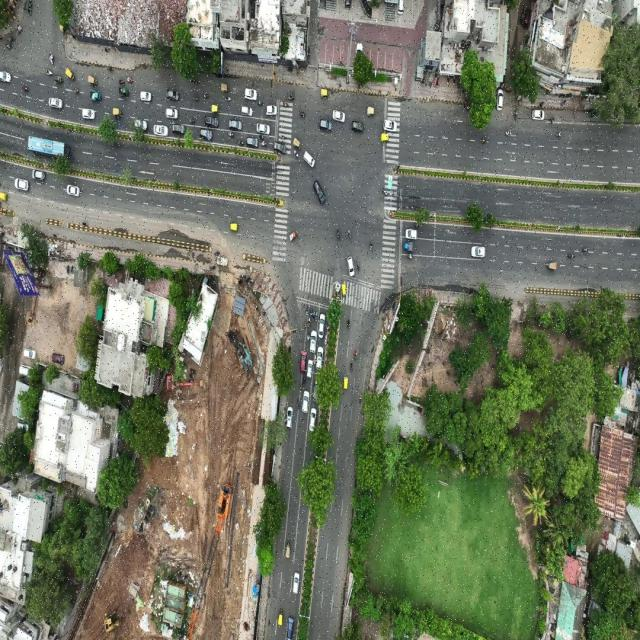3W: (85, 70, 101, 92), (51, 69, 67, 89), (63, 64, 77, 84), (108, 105, 125, 121), (208, 100, 224, 116), (543, 258, 560, 273), (365, 103, 380, 119), (318, 84, 331, 101), (23, 0, 36, 17), (227, 220, 241, 235), (379, 131, 392, 146), (291, 137, 304, 152), (219, 81, 232, 96), (284, 539, 293, 560), (342, 374, 350, 397), (276, 607, 285, 627), (340, 279, 347, 299)
Bus: (26, 133, 72, 161)
Cars: (312, 178, 327, 209), (202, 111, 224, 130), (138, 85, 156, 108), (270, 138, 289, 159), (349, 116, 366, 138), (331, 104, 347, 127), (170, 117, 186, 140), (227, 115, 244, 136), (152, 121, 170, 140), (164, 84, 181, 104), (132, 114, 149, 134), (0, 65, 13, 90), (47, 94, 65, 112), (18, 362, 34, 382), (165, 102, 181, 122), (312, 372, 321, 406), (318, 117, 335, 135), (470, 243, 486, 262), (199, 126, 215, 145), (239, 102, 255, 121), (256, 119, 272, 138), (245, 133, 261, 152), (305, 354, 315, 384), (264, 98, 279, 118), (303, 148, 316, 171), (30, 167, 47, 184), (81, 106, 98, 123), (242, 86, 259, 103), (317, 313, 327, 341), (316, 344, 326, 372), (292, 568, 302, 596), (285, 612, 295, 640), (382, 117, 398, 134), (66, 182, 82, 199), (301, 390, 311, 417), (346, 253, 356, 279), (14, 177, 30, 193), (309, 328, 318, 356), (299, 347, 308, 375), (51, 351, 66, 367), (531, 106, 545, 123), (496, 88, 505, 114), (309, 406, 317, 435), (23, 346, 38, 361), (523, 7, 532, 32), (15, 421, 30, 435), (405, 226, 419, 241), (286, 405, 294, 431), (355, 39, 365, 59), (396, 0, 406, 16), (292, 147, 301, 161), (344, 0, 353, 10)
LCV: (116, 82, 131, 102), (89, 87, 103, 104), (287, 229, 301, 244), (400, 240, 415, 254), (588, 109, 600, 122)
M2W: (333, 225, 345, 245), (4, 39, 17, 56), (14, 19, 26, 37), (477, 132, 490, 148), (278, 126, 290, 143), (255, 127, 266, 145), (115, 74, 128, 89), (285, 89, 298, 104), (46, 50, 57, 67), (300, 367, 309, 387), (579, 242, 591, 257), (346, 226, 356, 243), (503, 125, 515, 139), (254, 95, 266, 109), (280, 97, 291, 112), (511, 105, 520, 123), (548, 113, 558, 129), (126, 73, 136, 89), (565, 249, 577, 262), (222, 91, 233, 105), (72, 83, 82, 98), (367, 238, 376, 254), (356, 389, 364, 407), (106, 60, 115, 76), (405, 251, 416, 264), (43, 67, 54, 80), (189, 76, 200, 89), (347, 360, 356, 375), (187, 112, 196, 127), (412, 219, 423, 231), (6, 33, 18, 44), (190, 94, 202, 105), (21, 83, 31, 96), (201, 88, 211, 101), (345, 315, 352, 333), (353, 347, 360, 365), (461, 102, 471, 114), (237, 138, 247, 150), (306, 314, 313, 331), (555, 130, 564, 143), (259, 138, 268, 151), (306, 326, 312, 345), (295, 393, 301, 412), (325, 318, 332, 334), (227, 129, 237, 140), (323, 332, 329, 350), (355, 258, 361, 275), (297, 110, 307, 120), (297, 382, 304, 396), (435, 75, 441, 91), (304, 304, 310, 319), (309, 304, 314, 322), (312, 352, 318, 367), (212, 248, 222, 257), (187, 371, 197, 380), (311, 307, 316, 324), (445, 76, 452, 88), (450, 76, 457, 88), (314, 309, 319, 325), (303, 317, 308, 333), (561, 96, 567, 109), (189, 366, 197, 375), (187, 378, 195, 387)
Truck: (215, 252, 230, 269)
